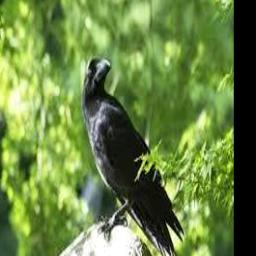Crow: (82, 53, 185, 256)
